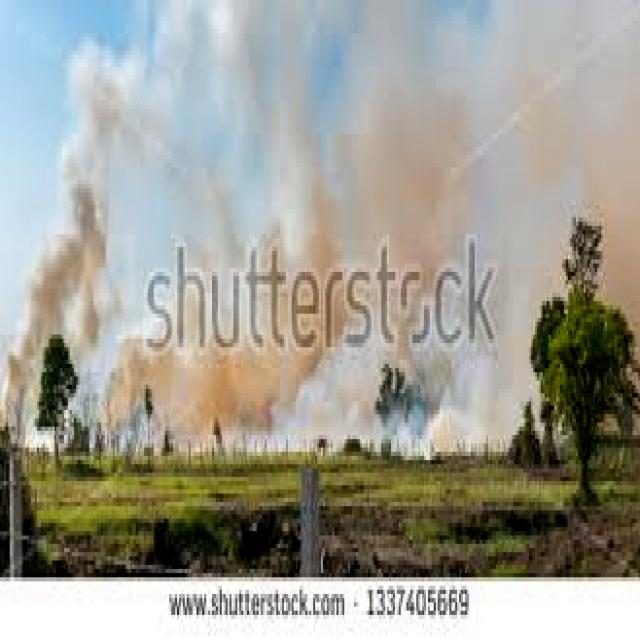no_helmet: (11, 176, 464, 466)
